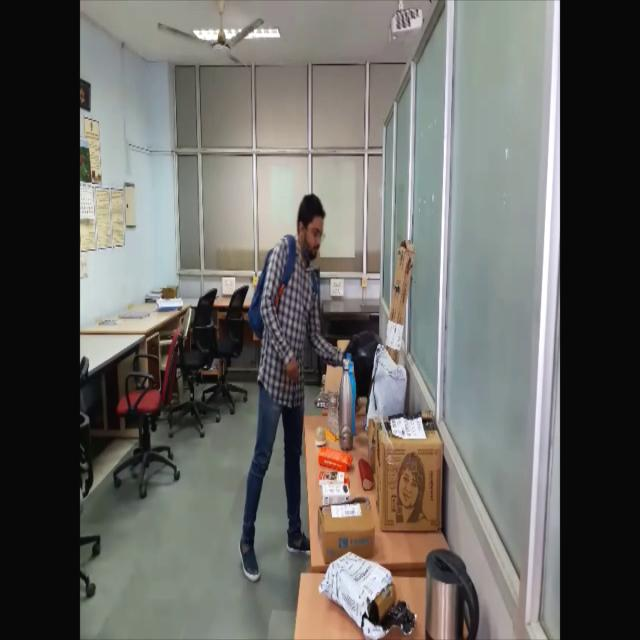normal: (237, 177, 359, 640)
